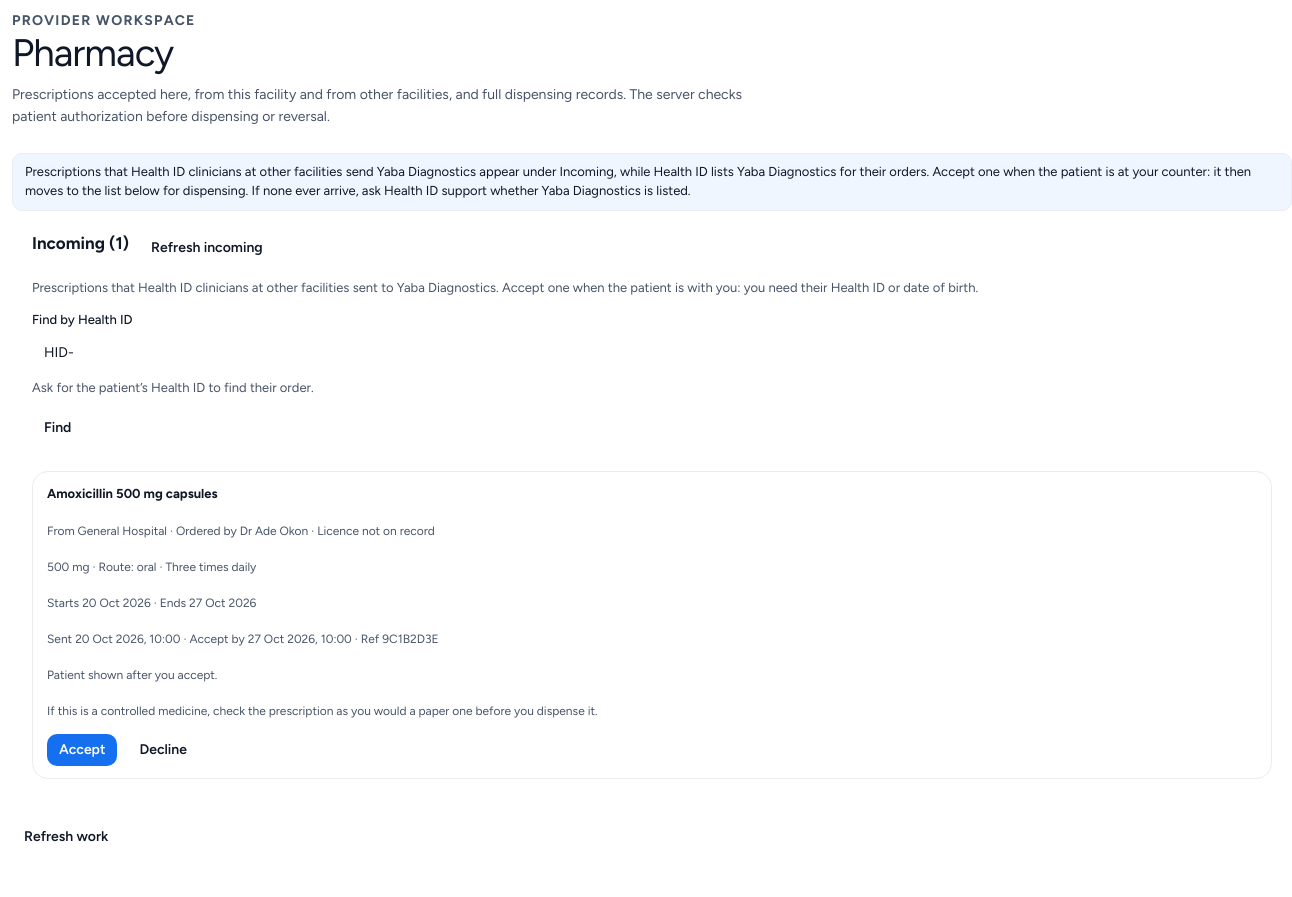
Test: Incoming at a pharmacy › previews the prescription, warns about controlled medicines, and accepts with a reason
The width and height of the screenshot is (1292, 897).
Expected: the text "From General Hospital · Ordered by Dr Ade Okon · Licence not on record" is shown, 47,524 -> 435,538
Expected: the text "500 mg · Route: oral · Three times daily" is shown, 47,560 -> 256,574
Click the button "Accept": (82, 750) 47,734 -> 118,766
(page scrolled)
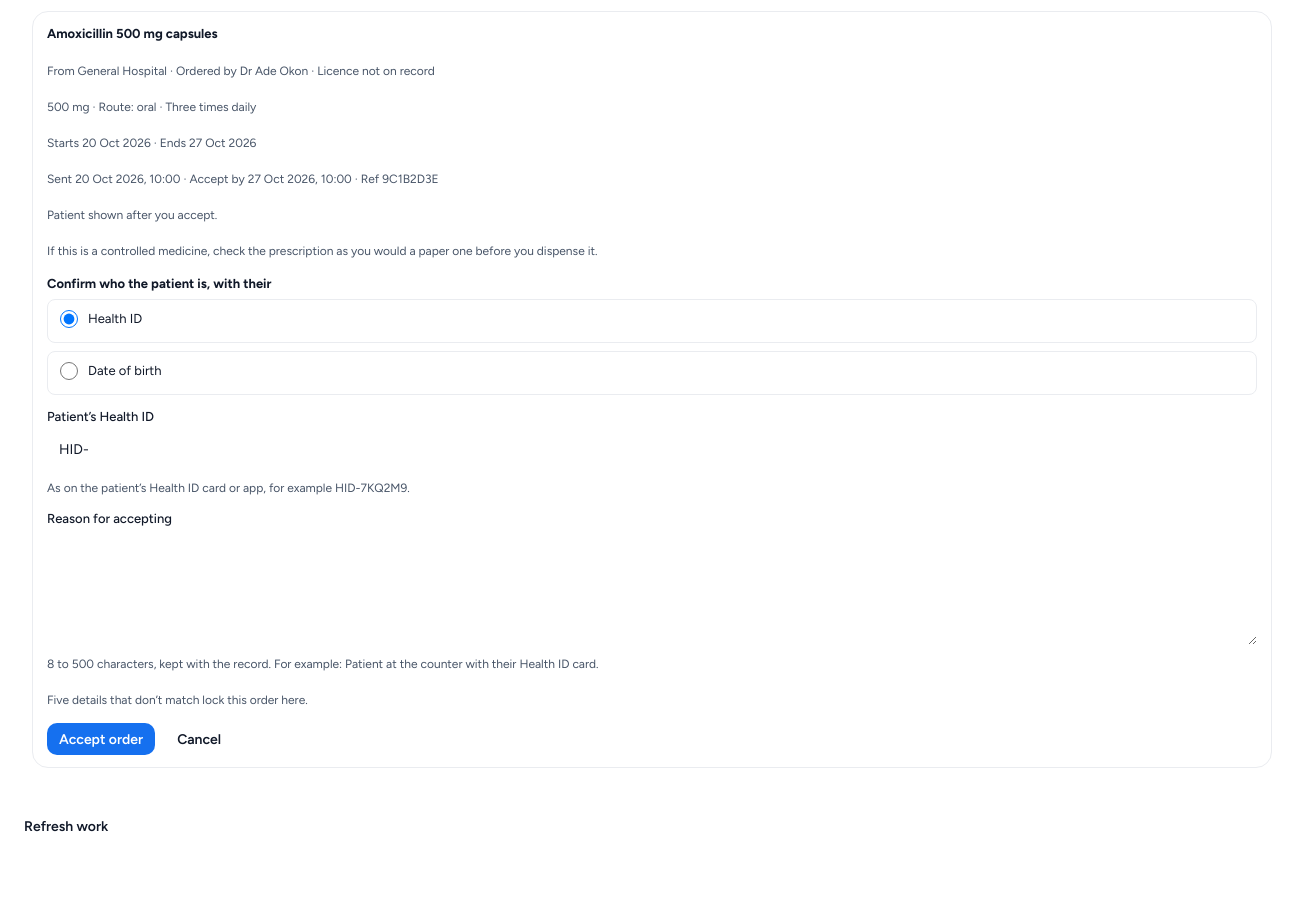
Replace the text in the field labelled "Patient’s Health ID" with "HID-7KQ2M9": (652, 450) 47,432 -> 1257,469
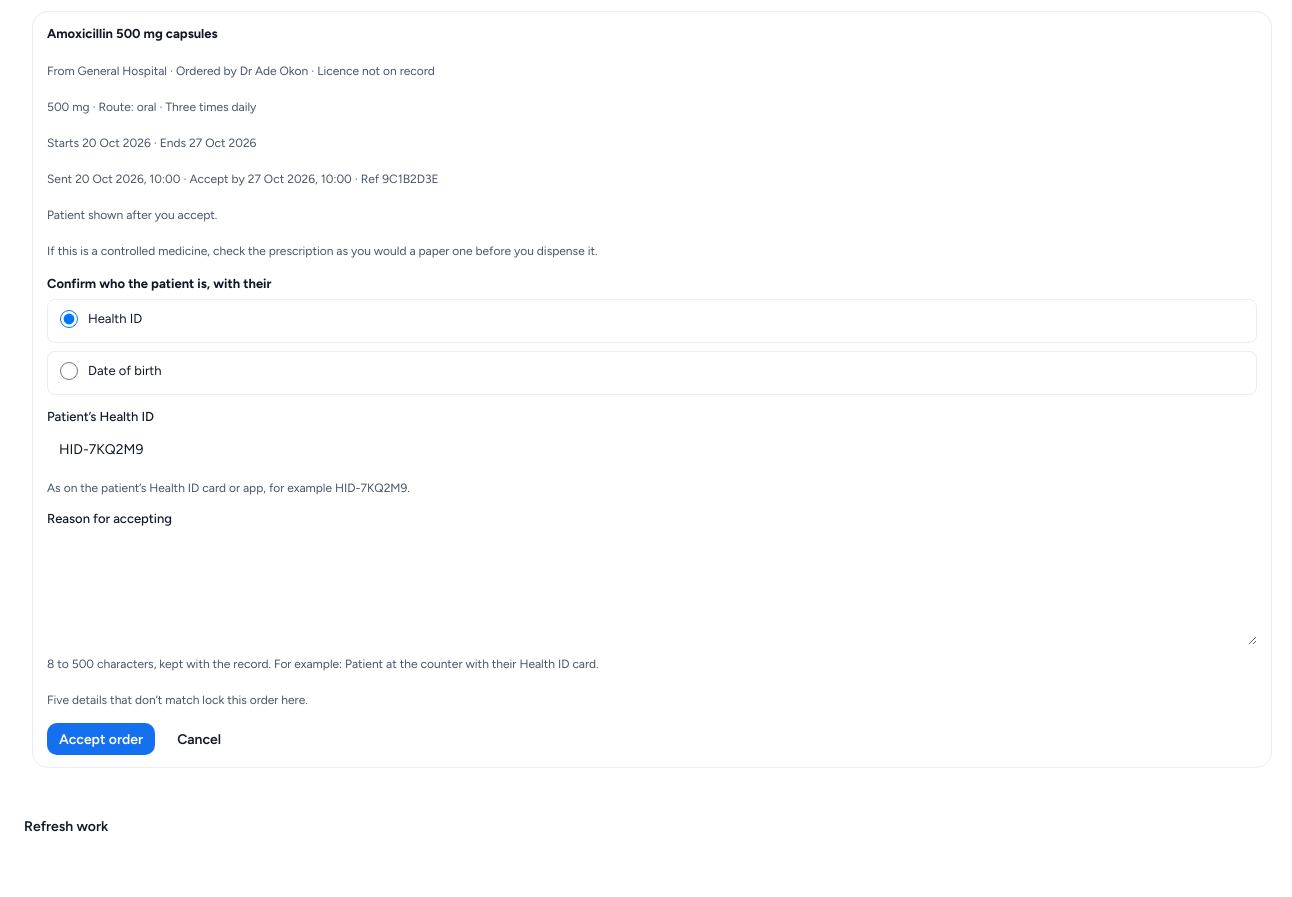
In the text box labelled "Reason for accepting": (652, 589) 47,533 -> 1257,645, type "short"
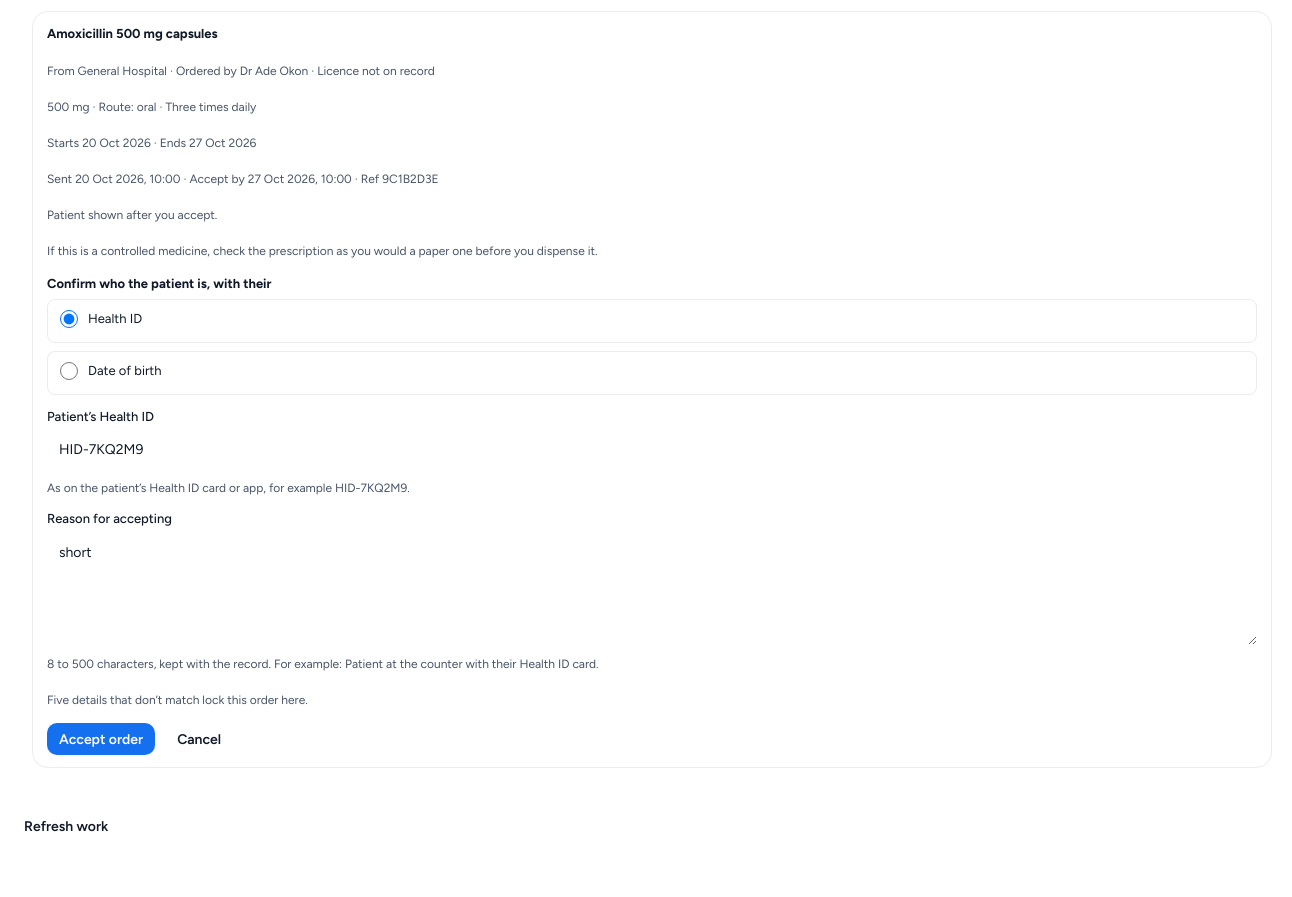
Click the button "Accept order": (101, 739) 47,723 -> 155,755
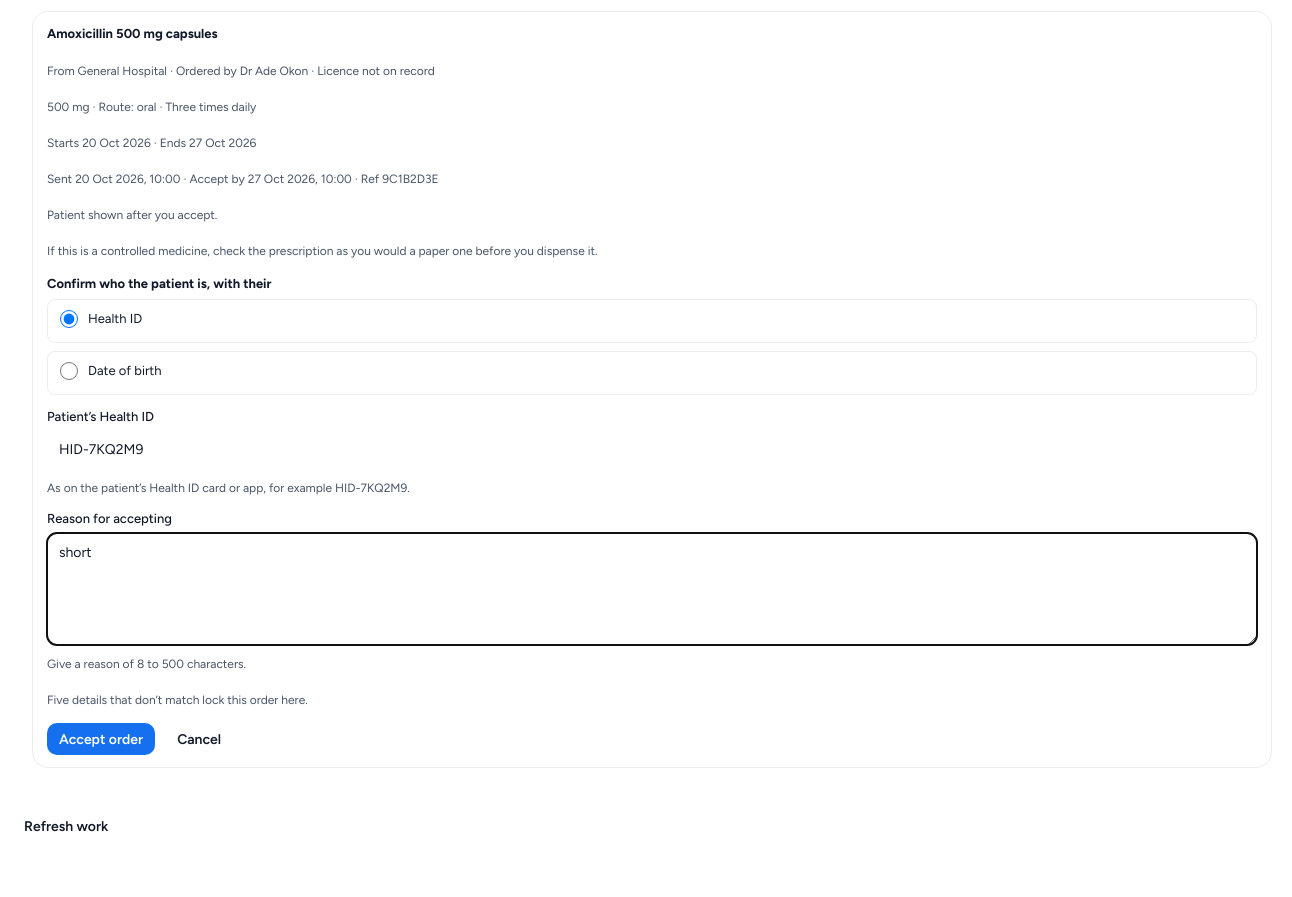
Now the text "Give a reason of 8 to 500 characters." is shown, box 47,657 -> 246,671
Replace the text in the text box labelled "Reason for accepting" with "Patient at the counter with their card": (652, 589) 47,533 -> 1257,645
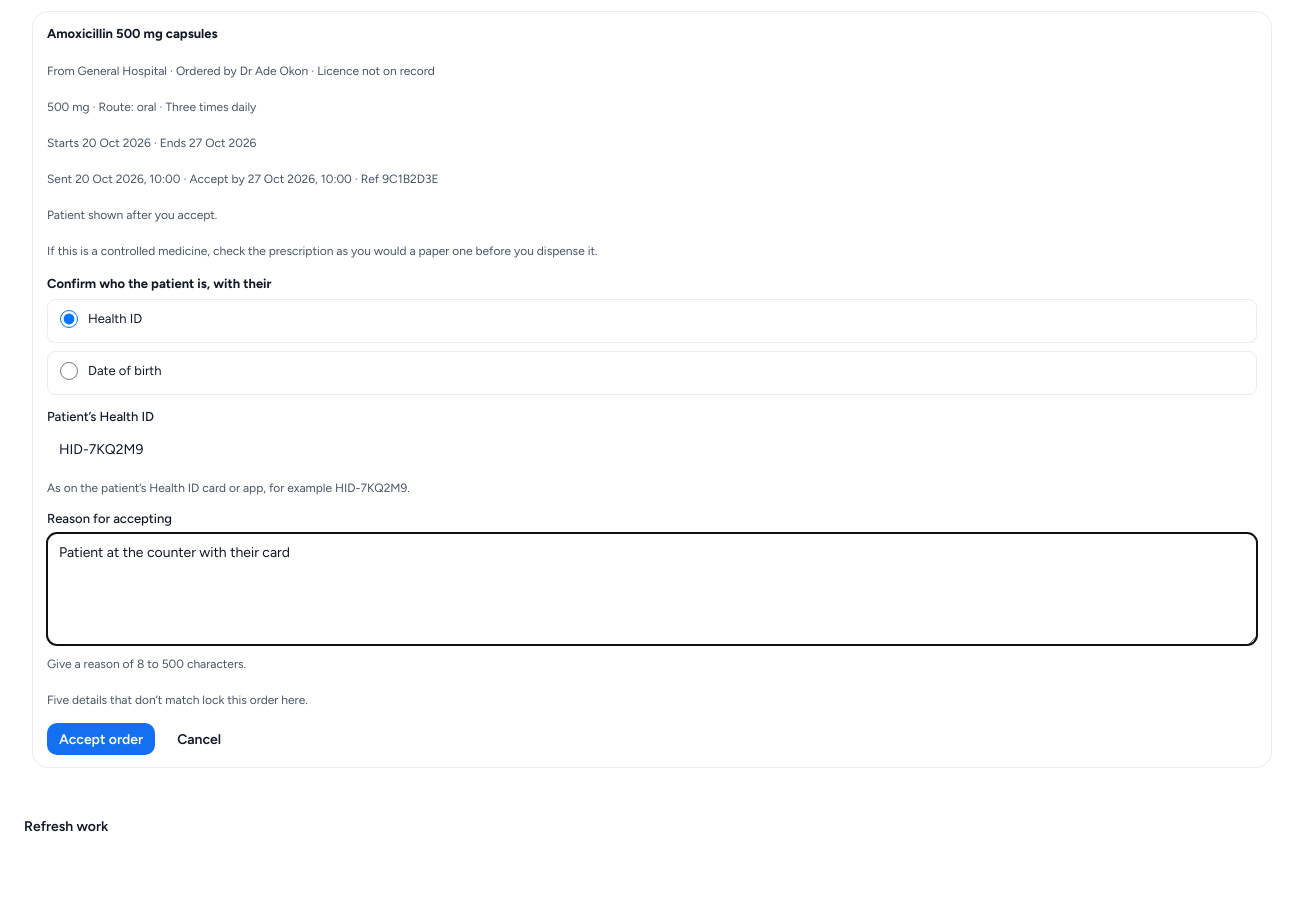
Click the button "Accept order": (101, 739) 47,723 -> 155,755
(page scrolled)
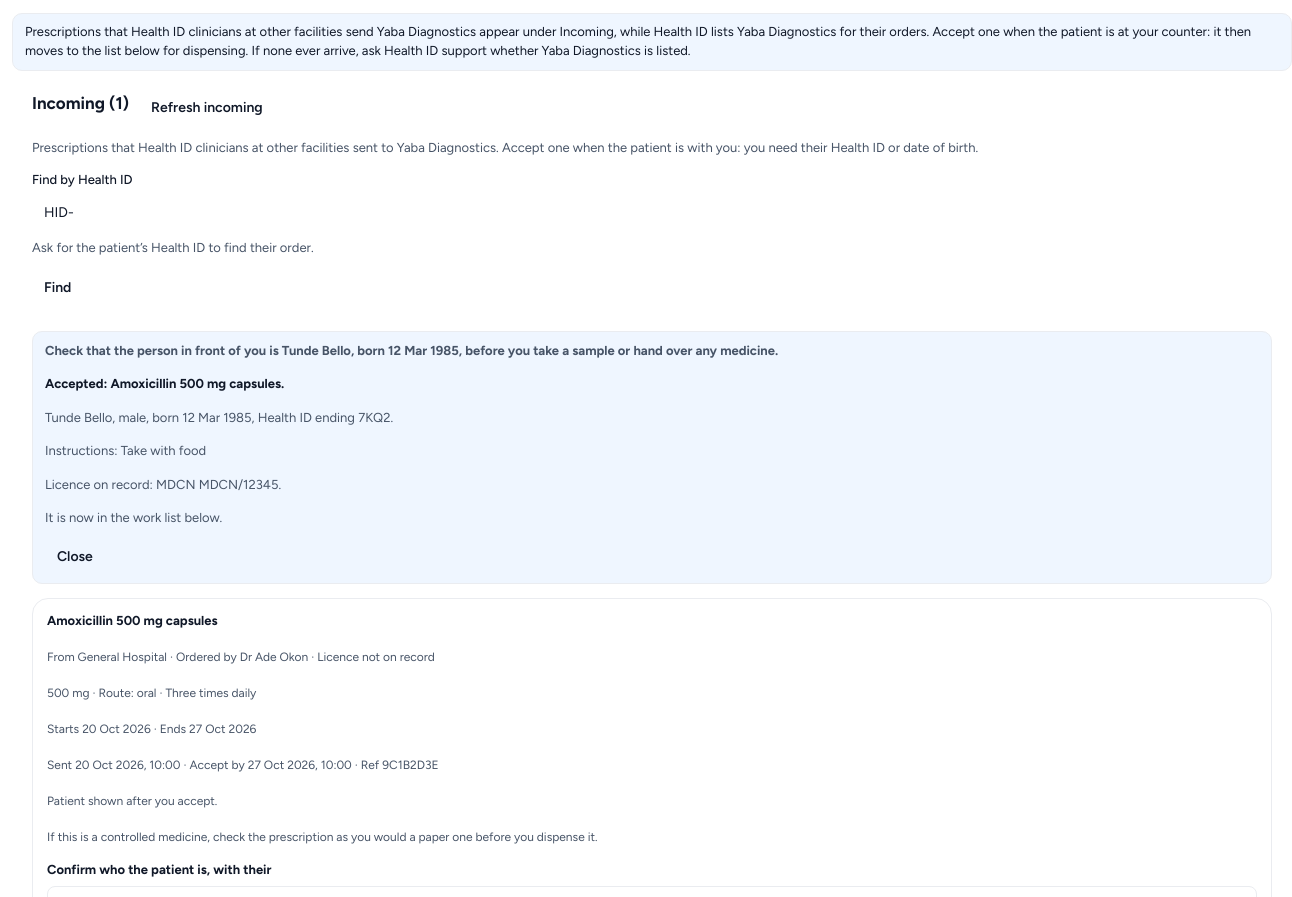
Now the text "Instructions: Take with food" is shown, box 45,443 -> 206,458
